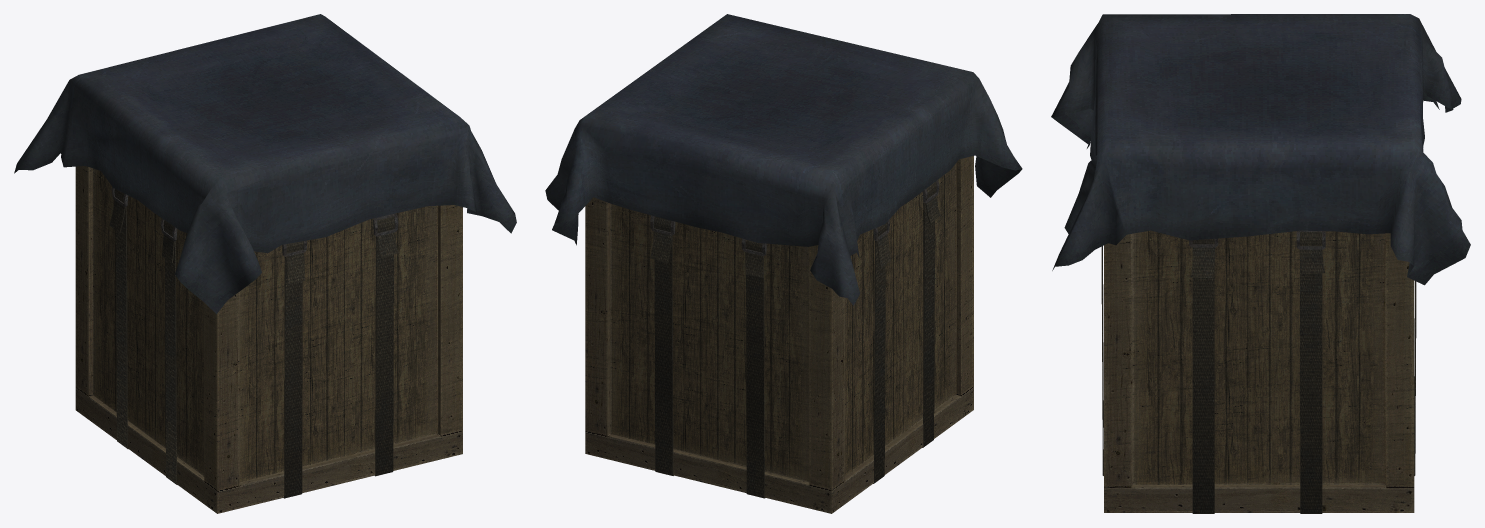
Rendered from wooden_crate_hx_4.glb.
3 views of the same model, side by side, from view 1: azimuth 30°, elevation 25°; view 2: azimuth 150°, elevation 25°; view 3: azimuth 270°, elevation 25° (orthographic). The views are drawn at different scales.
Visible parts, largest first — view 1: wooden_crate_hx_4; view 2: wooden_crate_hx_4; view 3: wooden_crate_hx_4.
Boxes of the visible parts, x1,y1,x2,y2 form: wooden_crate_hx_4: (14,14,516,513); wooden_crate_hx_4: (545,14,1022,513); wooden_crate_hx_4: (1051,14,1470,513).
Bounding box in the file's own units: 1.89 × 1.84 × 1.89.
Materials: 4 (4 with a texture image).
